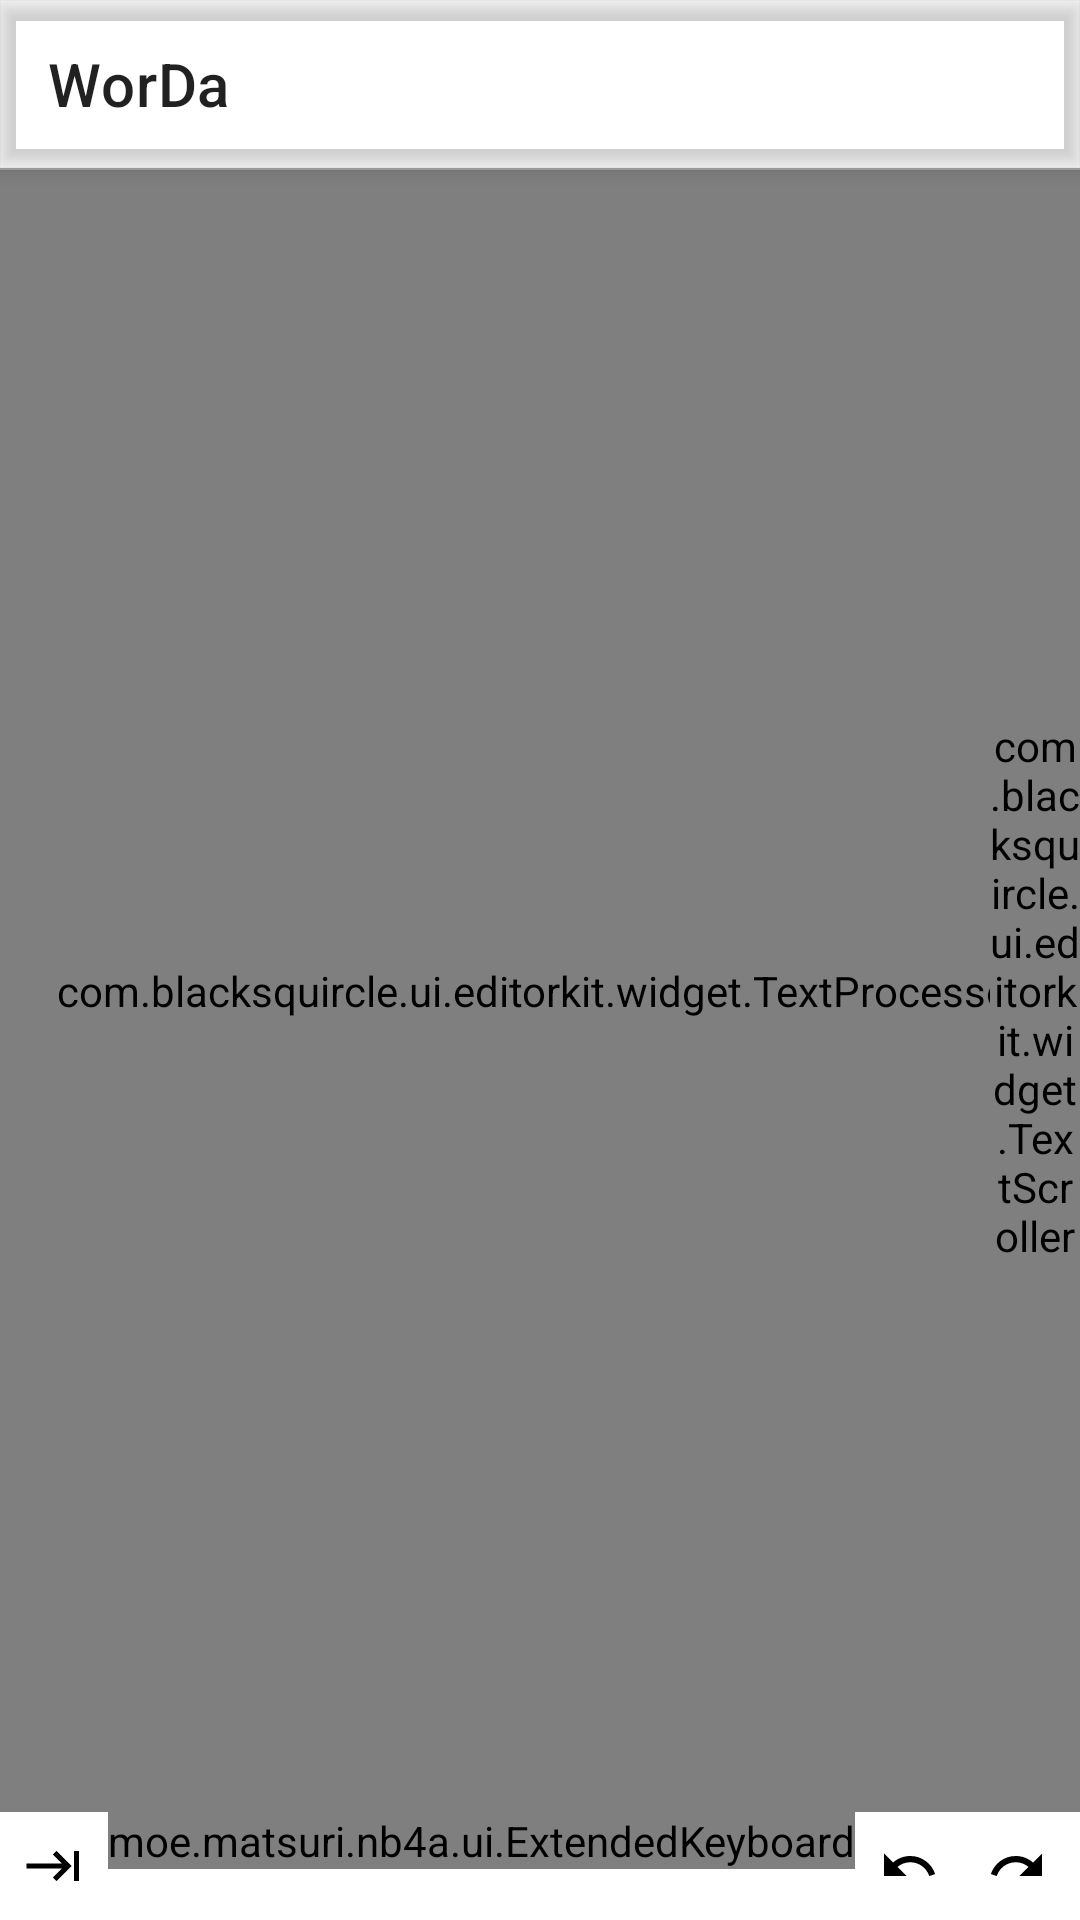

Named icons in this screenshot (1080×1920) and their centers, (x=x, y=y):
keyboard tab: (x=54, y=1866)
redo: (x=1016, y=1865)
undo: (x=909, y=1864)
